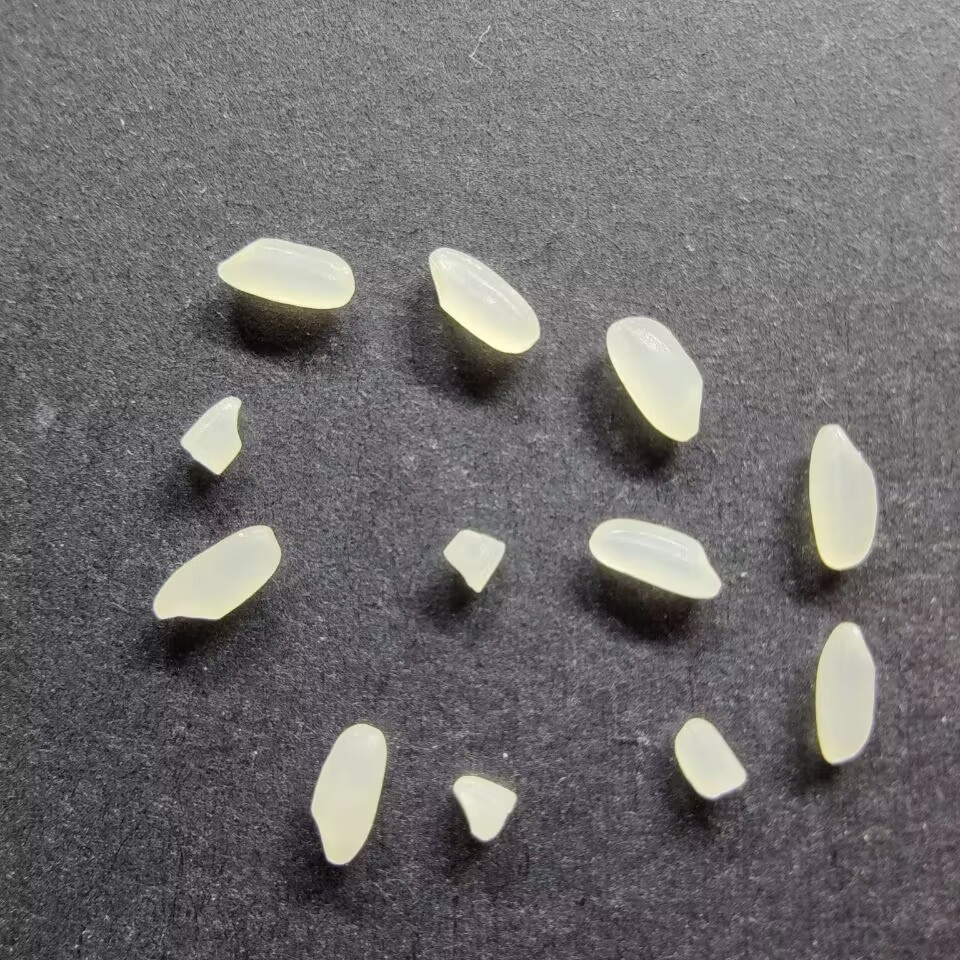broken: (671, 714, 749, 802), (178, 394, 247, 478), (448, 774, 522, 845), (440, 526, 507, 595)
rice: (604, 314, 706, 442), (150, 523, 283, 621), (428, 245, 541, 355), (308, 722, 388, 867), (587, 517, 725, 601), (806, 422, 879, 570), (214, 235, 356, 310), (813, 620, 878, 768)
